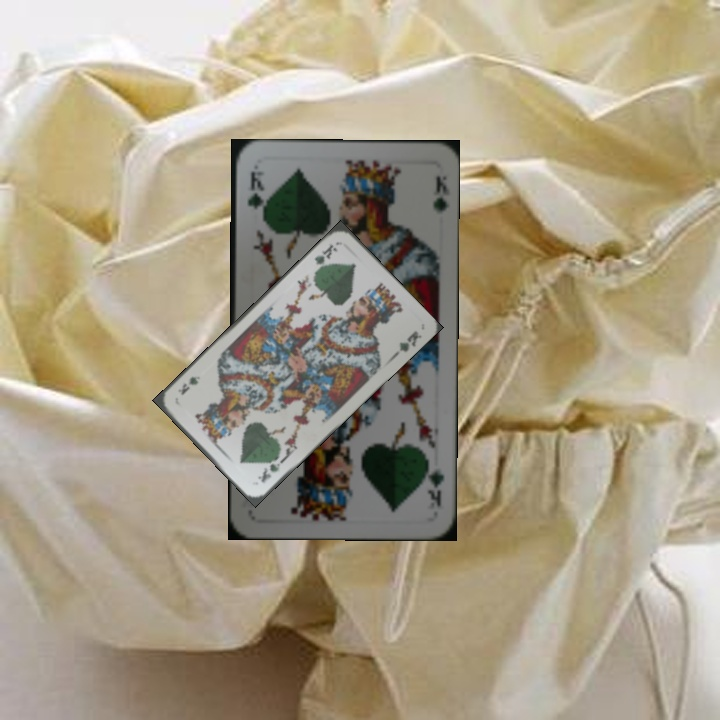GK: (421, 455, 446, 509), (254, 455, 287, 486), (310, 240, 340, 274), (244, 167, 265, 212)
